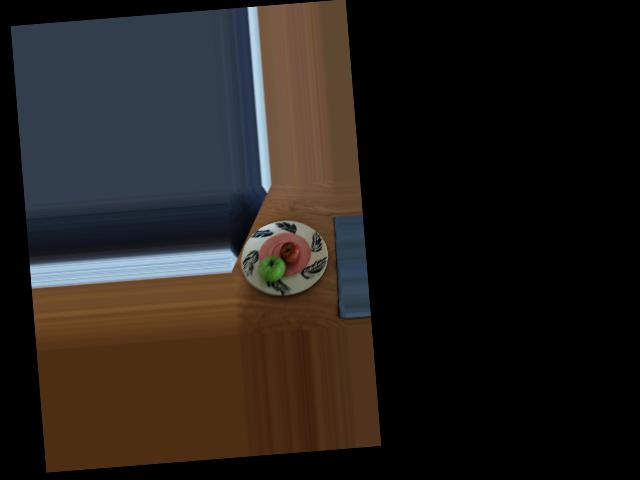apple: (256, 255, 286, 285)
